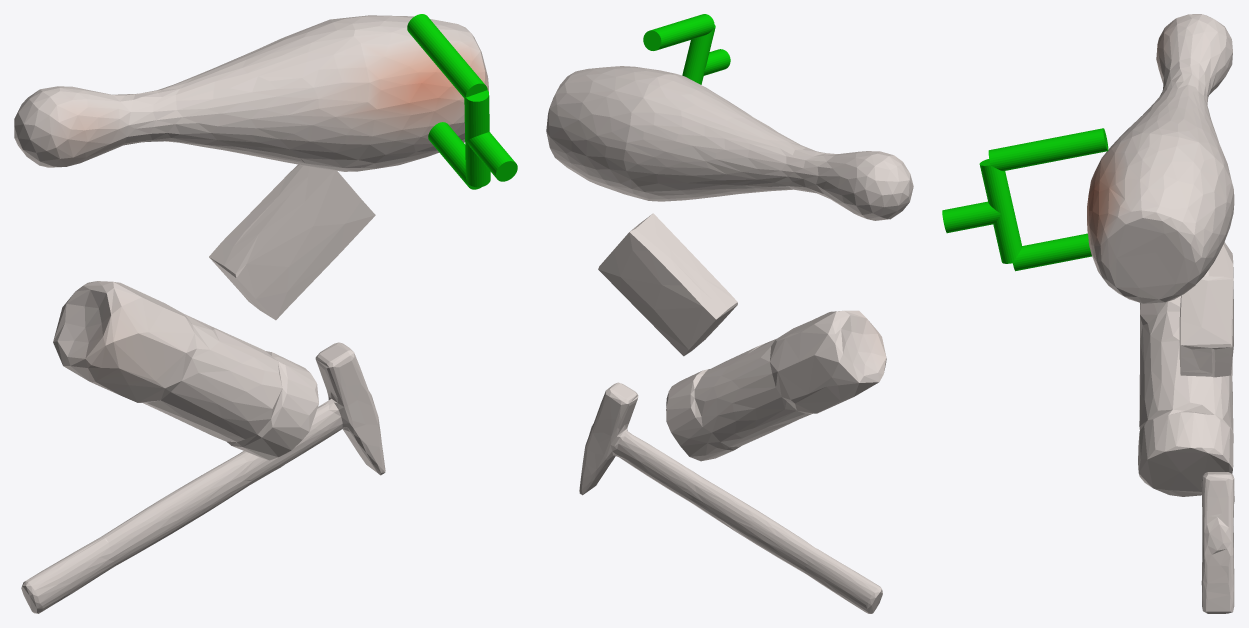
File: round_000_trial_001.obj
The picture shows the model from 3 angles, left to right: view 1: azimuth 30°, elevation 25°; view 2: azimuth 150°, elevation 25°; view 3: azimuth 270°, elevation 25°; orthographic projection. The views are drawn at different scales.
Visible parts, largest first — view 1: geometry_0, geometry_1; view 2: geometry_0, geometry_1; view 3: geometry_0, geometry_1.
Boxes of the visible parts, x1=… form: geometry_0: x1=14, y1=15, x2=488, y2=613; geometry_1: x1=407, y1=14, x2=517, y2=189; geometry_0: x1=546, y1=66, x2=913, y2=613; geometry_1: x1=643, y1=14, x2=730, y2=84; geometry_0: x1=1087, y1=14, x2=1234, y2=613; geometry_1: x1=942, y1=128, x2=1108, y2=271.
Size of the model in its own units: 0.1996 by 0.2509 by 0.1244.
